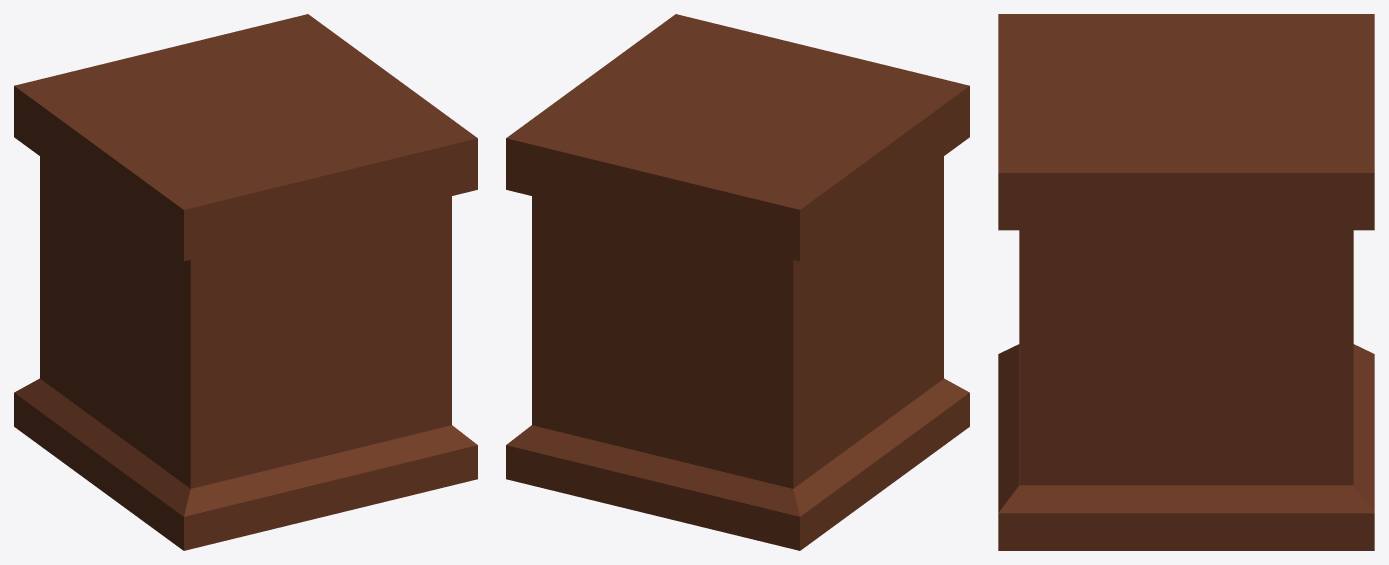
The model's file is museum_vitrine__bcc6c9850ce8.glb.
3 renders of one model, left to right at view 1: azimuth 30°, elevation 25°; view 2: azimuth 150°, elevation 25°; view 3: azimuth 270°, elevation 25°, orthographic. The views are drawn at different scales.
Parts seen in each view (by area): view 1: upright, square_cap, lower_band; view 2: upright, square_cap, lower_band; view 3: upright, square_cap, lower_band.
Boxes of the visible parts, box(x1,y1,x2,y2) form: upright: box(40, 156, 451, 488); square_cap: box(14, 14, 477, 261); lower_band: box(14, 378, 477, 550); upright: box(532, 156, 943, 488); square_cap: box(506, 14, 969, 261); lower_band: box(506, 378, 969, 550); upright: box(1019, 230, 1353, 485); square_cap: box(998, 14, 1374, 230); lower_band: box(998, 344, 1374, 550).
Bounding box in the file's own units: 0.8123 × 0.9 × 0.8123.
